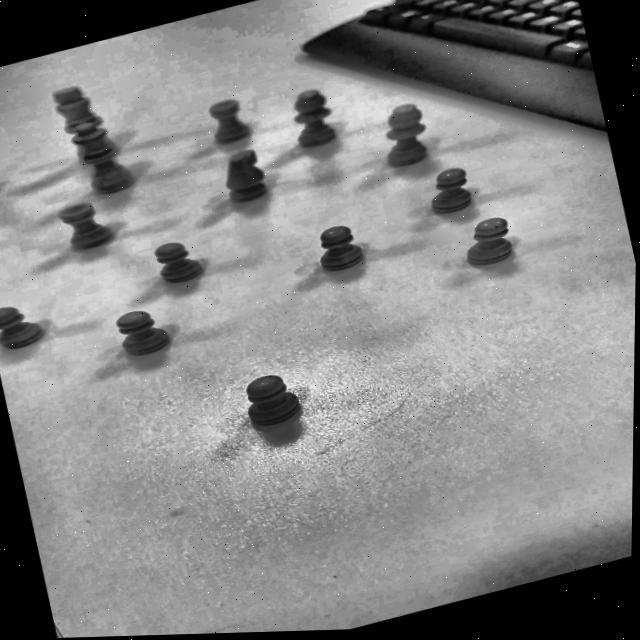white-bishop: (375, 99, 432, 168), (286, 84, 336, 149)
white-king: (37, 73, 136, 172)
white-knight: (217, 142, 275, 206)
white-pawn: (232, 362, 316, 439), (111, 301, 170, 359), (457, 213, 513, 268), (312, 220, 364, 273), (152, 233, 203, 285), (425, 162, 474, 214), (0, 299, 41, 353)
white-queen: (57, 107, 155, 201)
white-rook: (45, 192, 127, 262), (198, 92, 254, 147)
